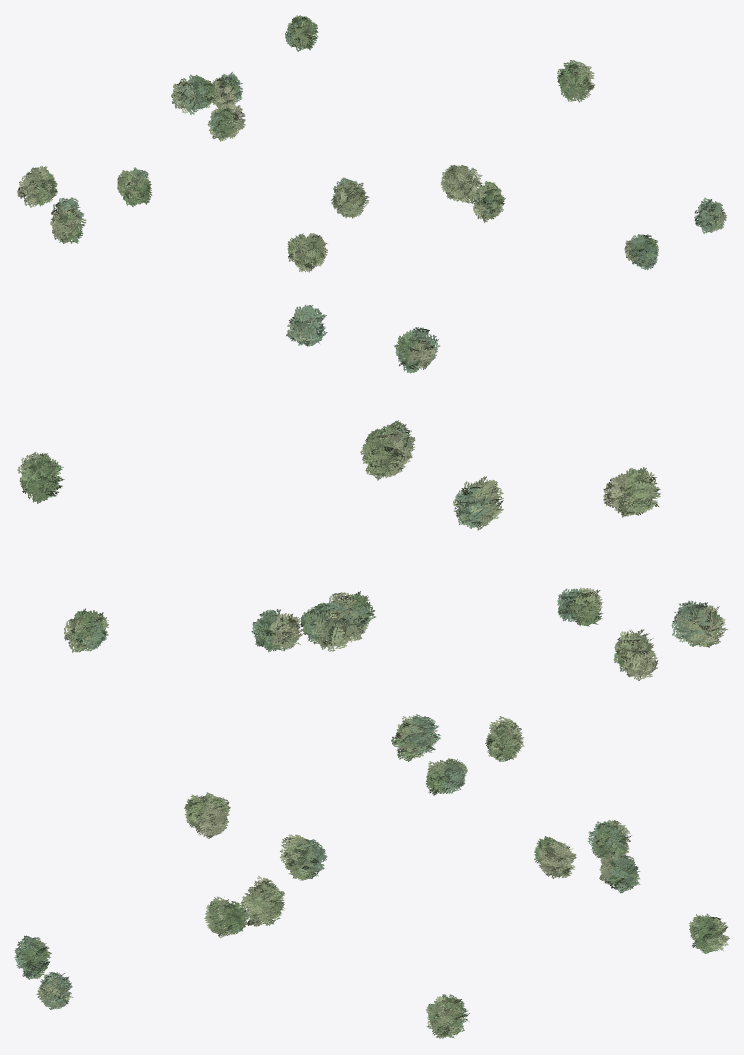
File: campus-tree--1_-2-near-photo.glb
3 views of the same model, one above another, from view 1: azimuth 30°, elevation 25°; view 2: azimuth 150°, elevation 25°; view 3: azimuth 270°, elevation 25° (orthographic). The views are drawn at different scales.
Visible parts, largest first — view 1: Campus leaf canopy; view 2: Campus leaf canopy; view 3: Campus leaf canopy.
Boxes of the visible parts, box(x1,y1,x2,y2) form: Campus leaf canopy: box(17, 15, 726, 272); Campus leaf canopy: box(17, 304, 727, 680); Campus leaf canopy: box(14, 714, 729, 1038).
Size of the model in its own units: 80.34 by 7.02 by 80.2.
Materials: 1 (1 with a texture image).
